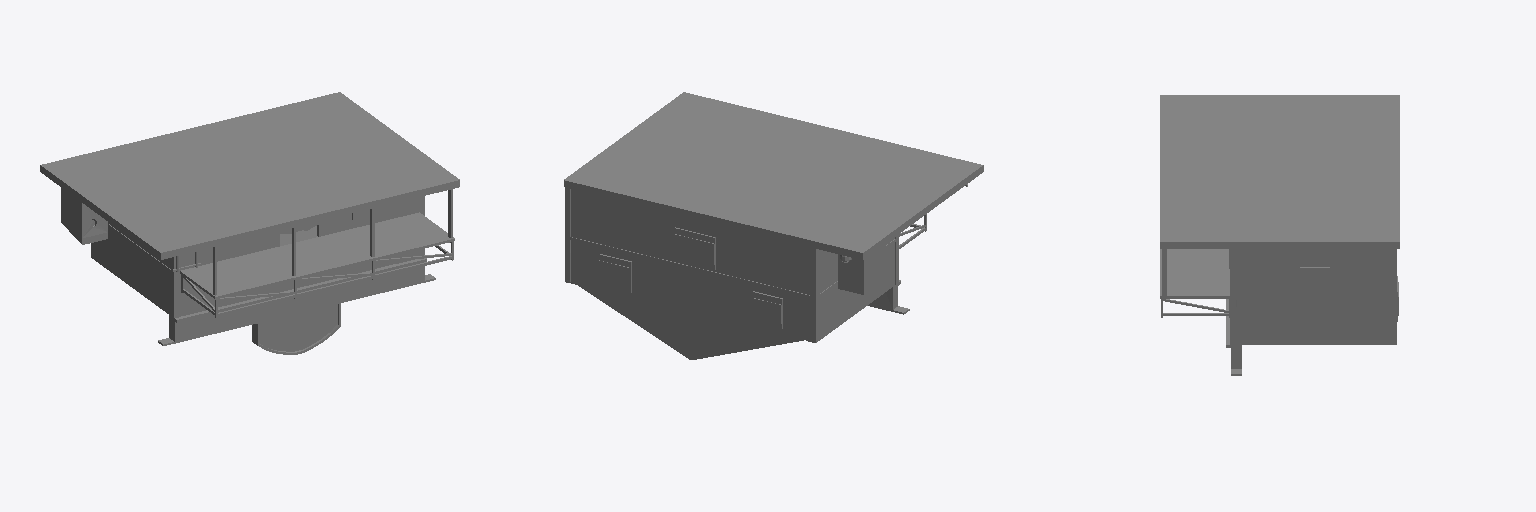
The model's file is saloon3.obj.
The picture shows the model from 3 angles: view 1: azimuth 30°, elevation 25°; view 2: azimuth 150°, elevation 25°; view 3: azimuth 270°, elevation 25°; orthographic projection.
Visible parts, largest first — view 1: Cylinder002; view 2: Cylinder002; view 3: Cylinder002.
Boxes of the visible parts, <box> form: Cylinder002: <box>40,92,459,354</box>; Cylinder002: <box>564,92,983,359</box>; Cylinder002: <box>1160,95,1399,375</box>.
Size of the model in its own units: 145 by 75.86 by 97.69.